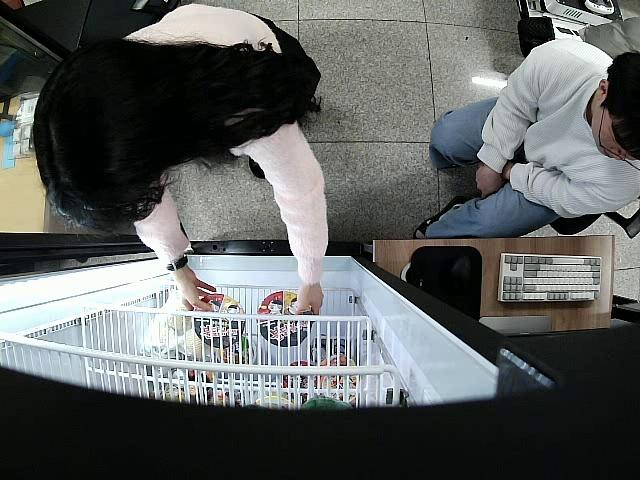00_hand: (177, 270, 217, 313), (289, 286, 325, 315)
07_buldak_L: (257, 289, 314, 347), (194, 293, 243, 347)
